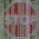Stop: (2, 8, 38, 36)
